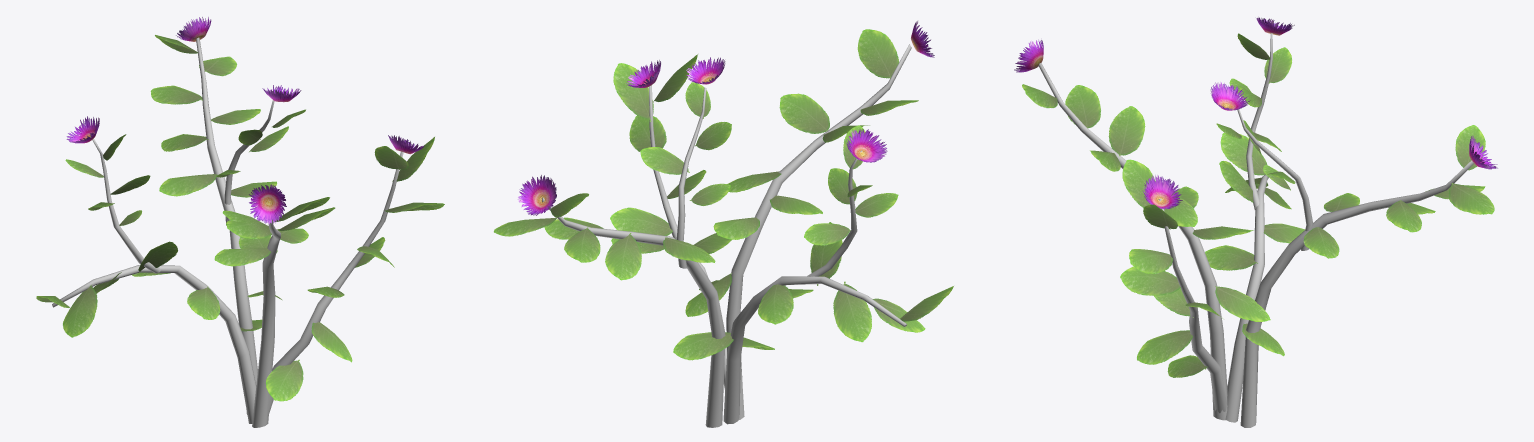
Rendered from Plantcomplete.fbx.
The picture shows the model from 3 angles, left to right: view 1: azimuth 30°, elevation 25°; view 2: azimuth 150°, elevation 25°; view 3: azimuth 270°, elevation 25°; orthographic projection. The views are drawn at different scales.
Visible parts, largest first — view 1: Leaves, Stem, Flowers; view 2: Leaves, Stem, Flowers; view 3: Leaves, Stem, Flowers.
Part boxes in pixels (box(x1,y1,x2,y2)): Leaves: box(36, 35, 444, 401); Stem: box(52, 37, 403, 427); Flowers: box(66, 17, 424, 224); Leaves: box(493, 29, 953, 360); Stem: box(542, 44, 911, 427); Flowers: box(517, 21, 934, 215); Leaves: box(1022, 33, 1494, 377); Stem: box(1038, 33, 1473, 427); Flowers: box(1014, 17, 1497, 209).
Size of the model in its own units: 52.34 by 42.83 by 58.65.
